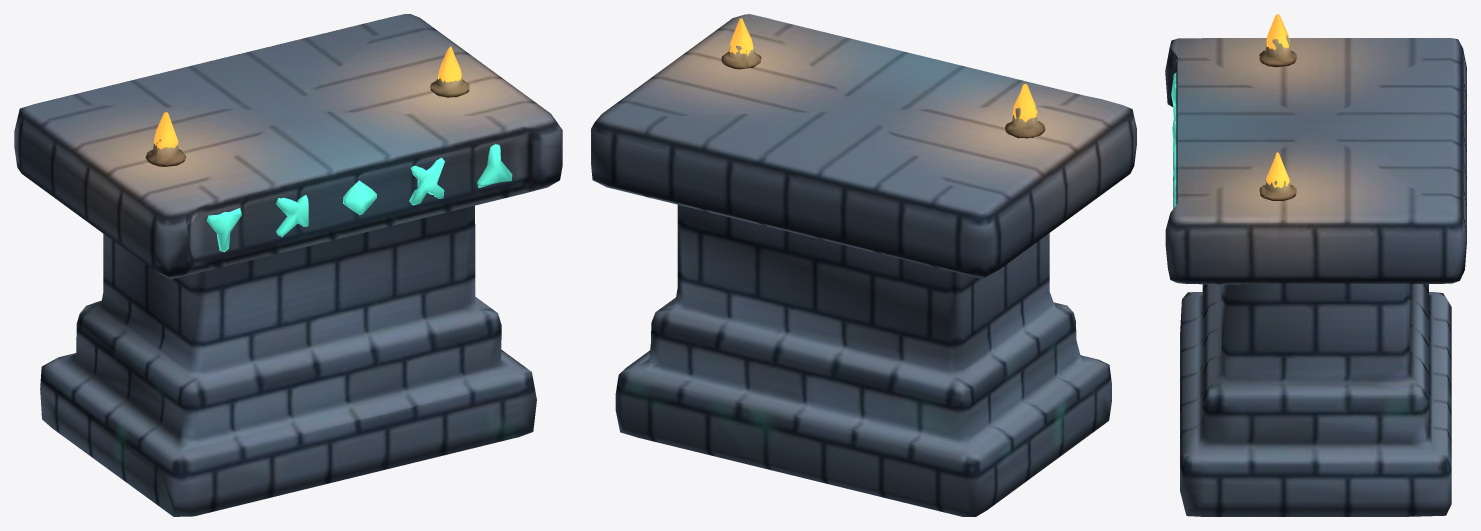
The model's file is altar.glb.
The picture shows the model from 3 angles, left to right: view 1: azimuth 30°, elevation 25°; view 2: azimuth 150°, elevation 25°; view 3: azimuth 270°, elevation 25°; orthographic projection. The views are drawn at different scales.
Parts seen in each view (by area): view 1: stone, runes, flames; view 2: stone, flames; view 3: stone, flames, runes.
Boxes of the visible parts, <box> form: stone: <box>14,14,562,516</box>; runes: <box>206,144,512,251</box>; flames: <box>154,46,461,149</box>; stone: <box>591,14,1136,516</box>; flames: <box>729,18,1037,121</box>; stone: <box>1165,35,1466,516</box>; flames: <box>1266,14,1289,187</box>; runes: <box>1171,72,1176,207</box>.
Size of the model in its own units: 1.2 by 1.03 by 0.7992.
Materials: 3 (3 with a texture image).
